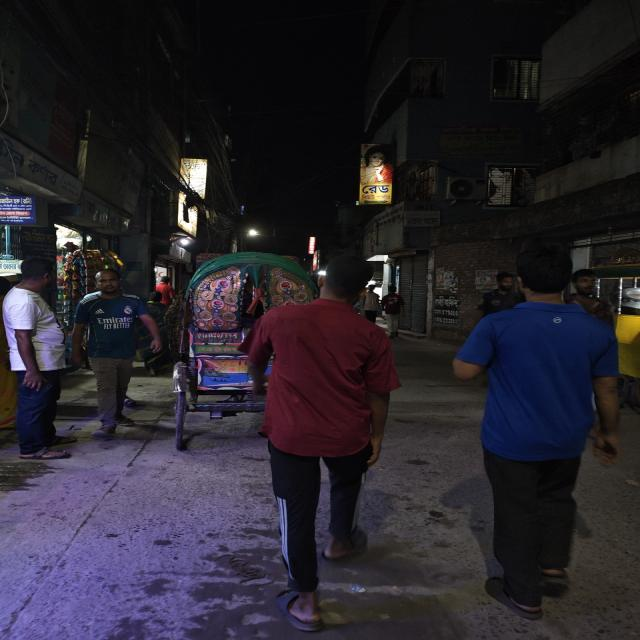pedestrian: (237, 258, 411, 612), (459, 235, 607, 624), (0, 254, 77, 469), (66, 270, 162, 439)
rickshaw: (177, 247, 265, 441)
